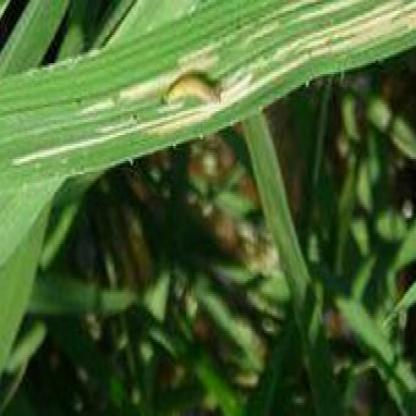leaf-folder: (158, 59, 223, 131)
